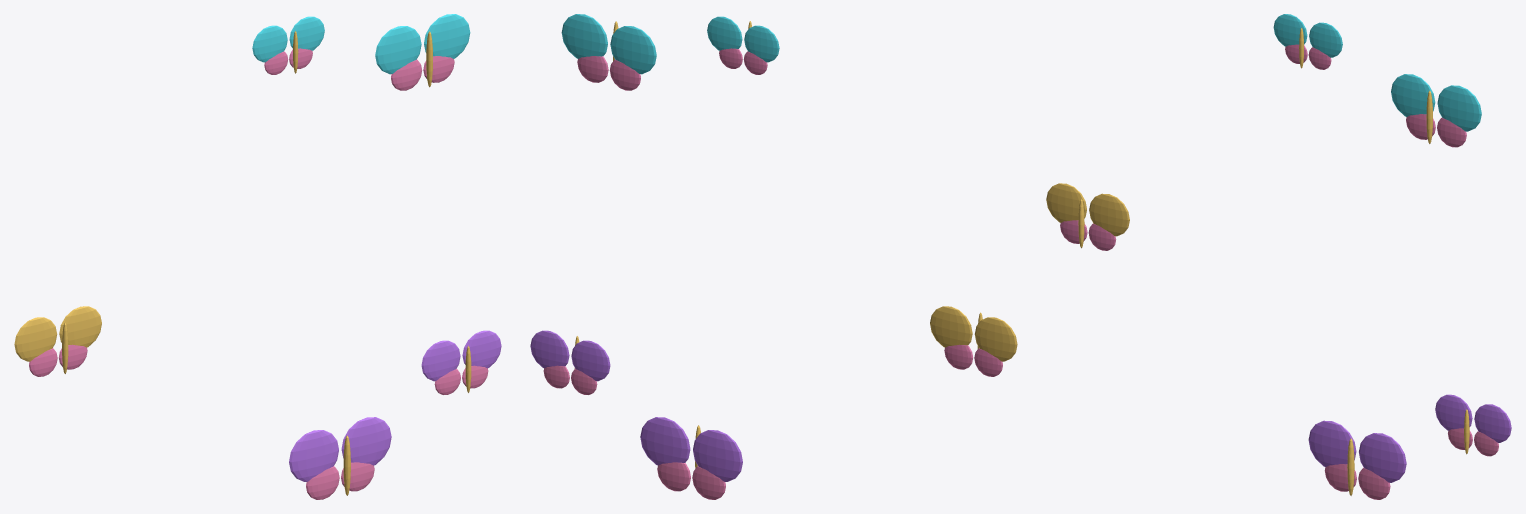
Rendered from butterflies.glb.
3 renders of one model, left to right at view 1: azimuth 30°, elevation 25°; view 2: azimuth 150°, elevation 25°; view 3: azimuth 330°, elevation 25°, orthographic. The views are drawn at different scales.
Parts seen in each view (by area): view 1: upper wing (×10), lower wing (×5); view 2: upper wing (×10), lower wing (×6); view 3: upper wing (×10), lower wing (×5).
Part boxes in pixels (bbox=[...]): upper wing (×10): bbox=[14, 14, 501, 481]; lower wing (×5): bbox=[29, 56, 454, 499]; upper wing (×10): bbox=[530, 14, 1017, 481]; lower wing (×6): bbox=[577, 56, 1002, 499]; upper wing (×10): bbox=[1046, 14, 1511, 482]; lower wing (×5): bbox=[1088, 114, 1466, 499].
Bounding box in the file's own units: 2.84 × 2.71 × 0.1091.
